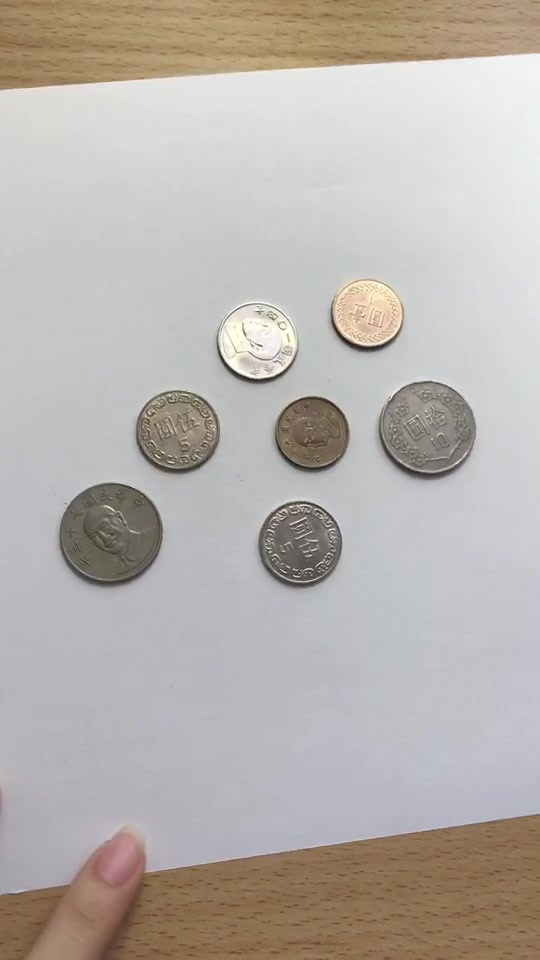1 dallar: (261, 390, 355, 476), (315, 273, 409, 359)
10 dallar: (48, 473, 175, 588), (372, 375, 499, 490)
5 dallar: (208, 291, 308, 389), (125, 380, 225, 478), (249, 493, 349, 591)
